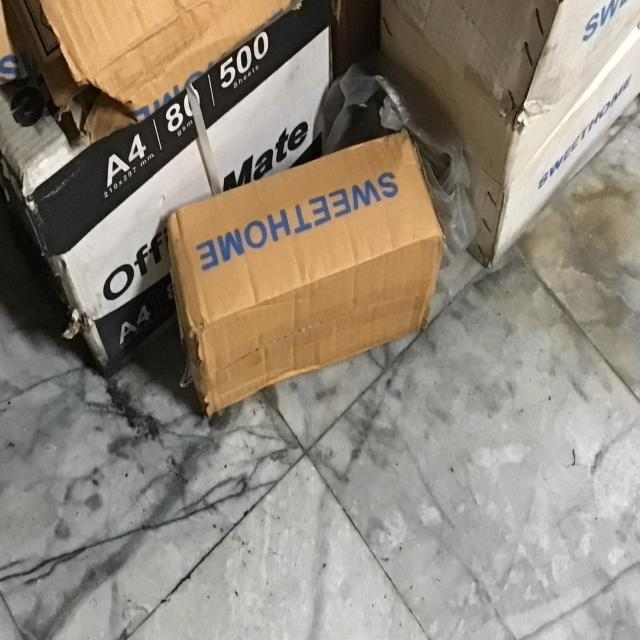cardboard: (161, 132, 441, 408), (0, 0, 278, 134)
